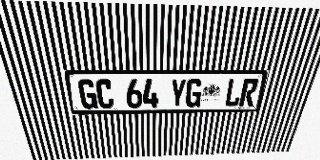4: (143, 79, 159, 108)
6: (125, 79, 142, 108)
C: (95, 79, 114, 109)
G: (77, 79, 98, 109), (185, 79, 203, 107)
L: (224, 78, 244, 107)
R: (238, 78, 259, 106)
Y: (169, 79, 187, 108)
